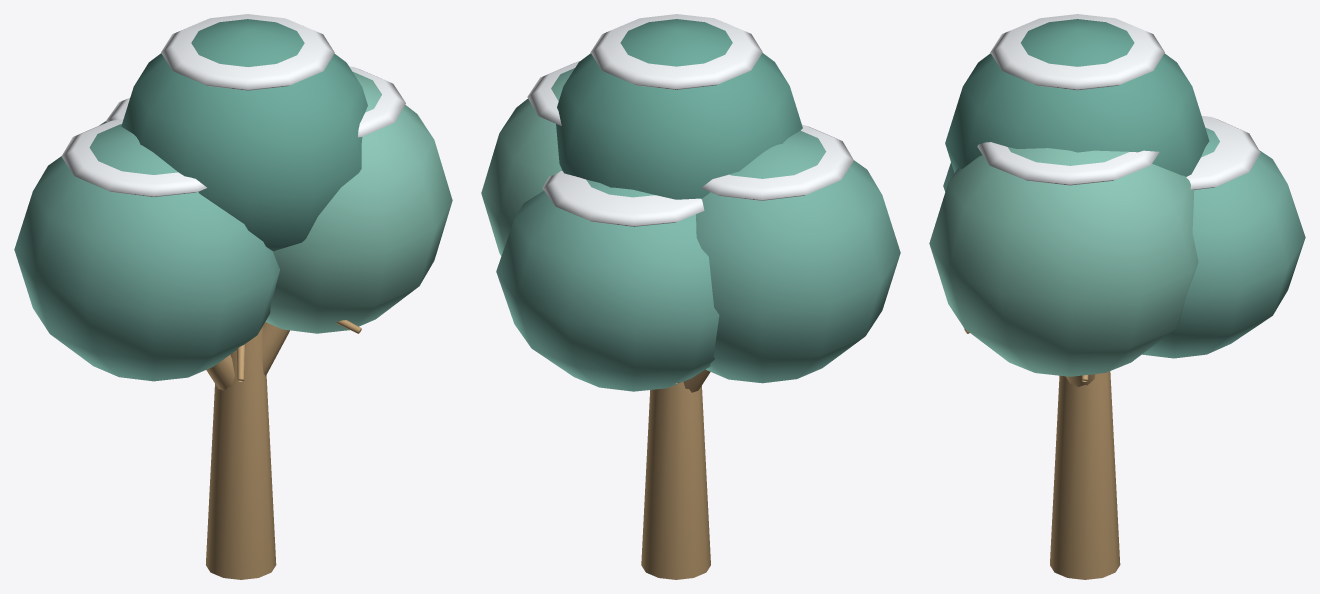
Rendered from tree_harvest_winter.glb.
3 renders of one model, left to right at view 1: azimuth 30°, elevation 25°; view 2: azimuth 150°, elevation 25°; view 3: azimuth 270°, elevation 25°, orthographic.
Bounding box in the file's own units: 2.44 × 3.19 × 2.03.
